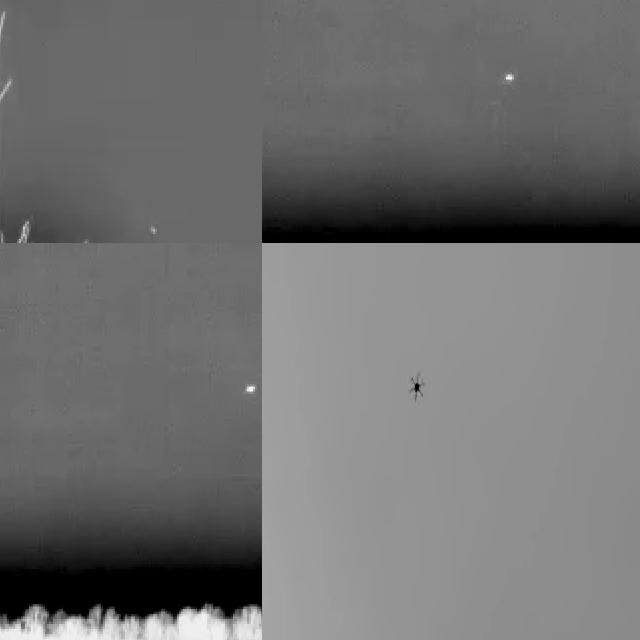0: (141, 219, 171, 243)
1: (499, 64, 527, 92), (241, 380, 262, 405)
drone: (402, 368, 425, 402)
